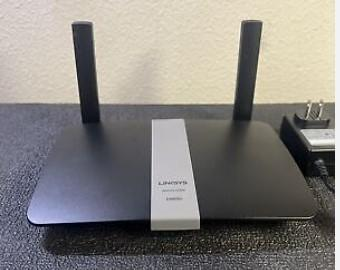Router: (28, 20, 317, 232)
